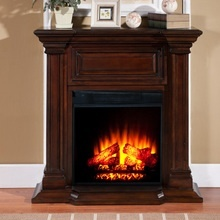fire: (90, 125, 156, 181)
